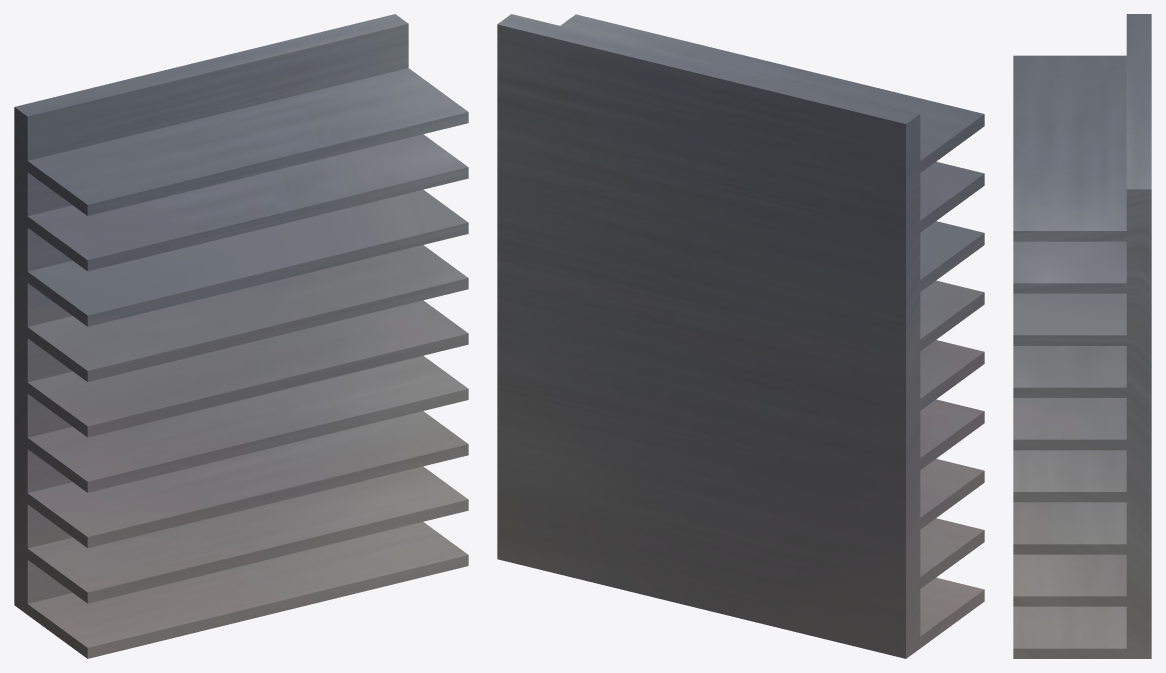
File: estanteria.glb
The picture shows the model from 3 angles, left to right: view 1: azimuth 30°, elevation 25°; view 2: azimuth 150°, elevation 25°; view 3: azimuth 270°, elevation 25°; orthographic projection. The views are drawn at different scales.
Parts seen in each view (by area): view 1: group_0_8768998; view 2: group_0_8768998; view 3: group_0_8768998.
Boxes of the visible parts, x1,y1,x2,y2 form: group_0_8768998: [14, 14, 468, 658]; group_0_8768998: [497, 14, 984, 658]; group_0_8768998: [1013, 14, 1151, 658].
Size of the model in its own units: 36 by 45 by 12.
1 material, 1 textured.
